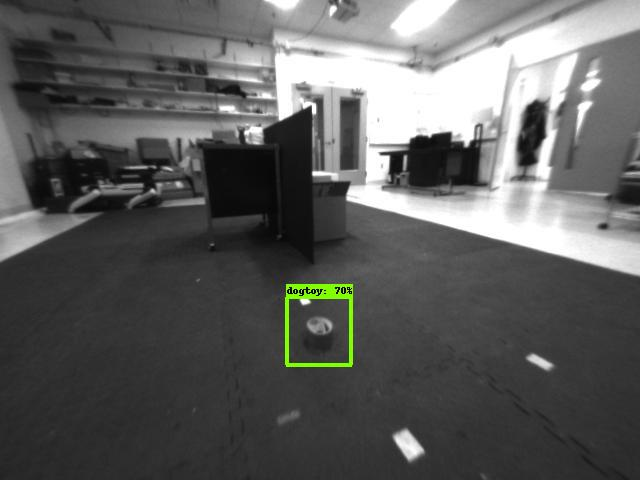dogtoy: (282, 298, 352, 360)
